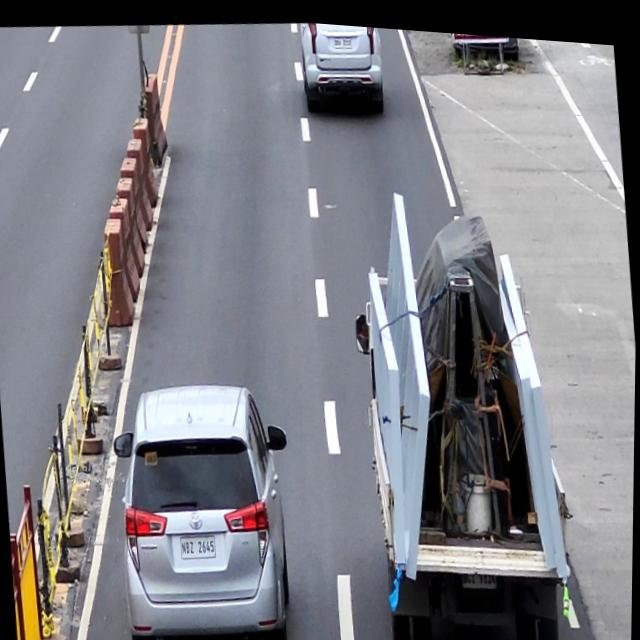Car: (113, 372, 300, 640), (296, 17, 388, 115)
License-Plate: (179, 527, 220, 563), (331, 28, 353, 45)
Truck: (355, 252, 569, 640)
